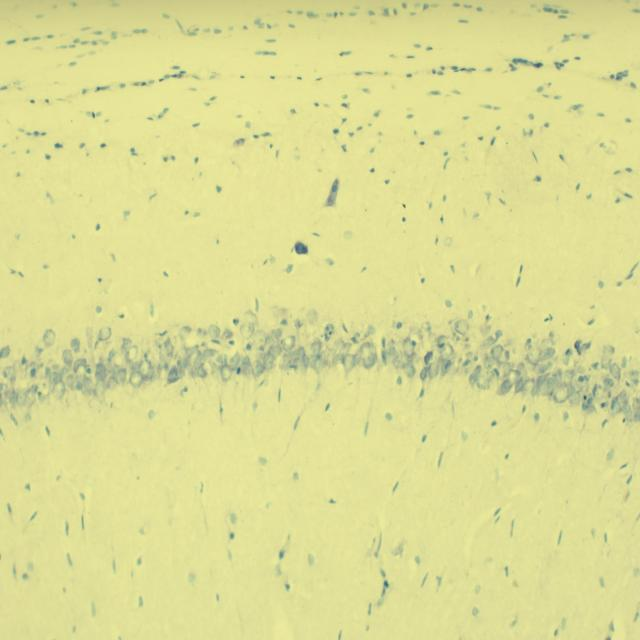neuron: (332, 342, 352, 368), (482, 329, 503, 347), (157, 334, 173, 357), (37, 376, 50, 403), (554, 382, 570, 403), (137, 358, 152, 380), (75, 363, 87, 390), (608, 396, 622, 419), (294, 355, 310, 375), (311, 353, 326, 374), (244, 310, 260, 328), (252, 328, 268, 346), (362, 352, 378, 370), (358, 341, 373, 360), (240, 320, 254, 340), (53, 379, 65, 402), (392, 352, 407, 370), (535, 371, 550, 389), (526, 346, 541, 364), (469, 365, 481, 387), (177, 348, 190, 368), (269, 340, 282, 360), (331, 338, 344, 358), (402, 338, 415, 358), (167, 368, 184, 383), (454, 318, 469, 335), (608, 364, 622, 382), (26, 385, 36, 410), (81, 377, 94, 396), (342, 353, 355, 372), (94, 378, 106, 398), (97, 326, 112, 342), (540, 347, 556, 362), (3, 366, 17, 383), (279, 354, 293, 371), (440, 344, 454, 361), (476, 374, 490, 391), (521, 378, 535, 395), (125, 344, 138, 362), (251, 360, 264, 378), (500, 378, 513, 396), (408, 330, 423, 345), (129, 371, 143, 387), (281, 336, 295, 352), (106, 376, 119, 393), (15, 390, 27, 408), (197, 362, 209, 380), (62, 349, 73, 368), (116, 368, 127, 387), (306, 309, 319, 325), (402, 362, 415, 378), (491, 344, 504, 360), (44, 329, 56, 346), (220, 364, 232, 381), (262, 352, 274, 369), (616, 389, 628, 406), (385, 338, 396, 356), (622, 402, 633, 420), (540, 338, 553, 353), (427, 332, 439, 348), (428, 362, 440, 378), (497, 348, 509, 364), (502, 361, 514, 377), (190, 361, 200, 380), (95, 363, 106, 380), (158, 363, 169, 380), (229, 353, 240, 370), (178, 326, 192, 339), (537, 360, 551, 373), (599, 356, 612, 370), (479, 323, 492, 337), (516, 362, 528, 377), (563, 369, 573, 387), (548, 330, 560, 345), (602, 378, 614, 393), (12, 360, 23, 376), (309, 342, 320, 358), (324, 323, 334, 340), (514, 377, 524, 394), (532, 383, 542, 400), (508, 370, 520, 384), (568, 391, 580, 405), (0, 345, 11, 360), (209, 324, 220, 339), (477, 344, 488, 359), (631, 396, 640, 414), (113, 351, 123, 367), (296, 346, 306, 362), (423, 350, 433, 366), (483, 356, 495, 369), (602, 344, 615, 356), (66, 374, 75, 391), (442, 359, 451, 376), (70, 338, 80, 353), (194, 351, 203, 367), (435, 335, 446, 348), (553, 369, 562, 384), (48, 371, 58, 384), (270, 328, 282, 338), (9, 392, 18, 405), (620, 356, 628, 370), (366, 324, 376, 335), (242, 355, 251, 367), (420, 366, 428, 379), (562, 352, 570, 365), (576, 365, 586, 375), (628, 369, 638, 379), (122, 338, 131, 349), (547, 377, 554, 391), (633, 408, 640, 422), (486, 370, 494, 380)
